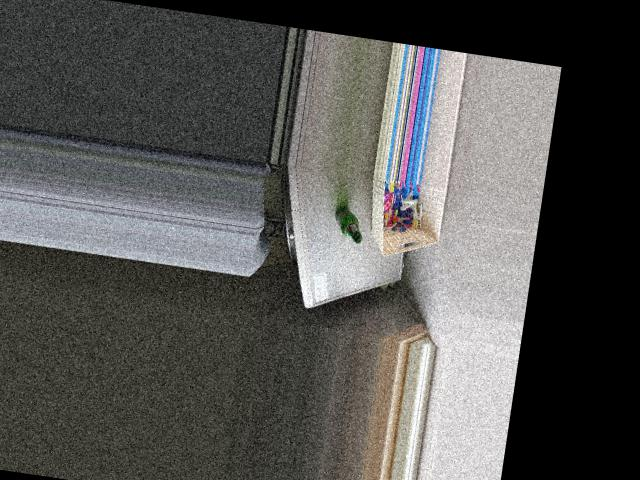beer: (331, 205, 365, 244)
